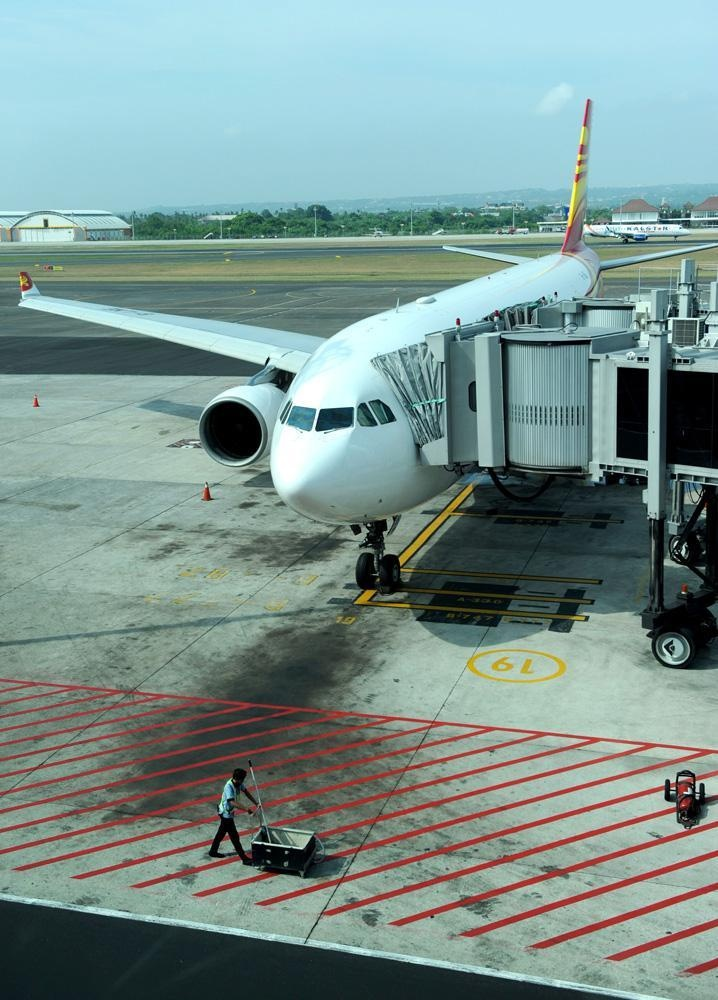airplane: (15, 88, 712, 570)
